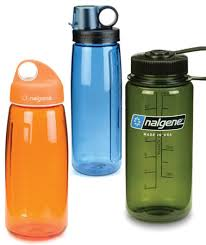bottle: (121, 44, 202, 225), (1, 56, 73, 243), (62, 2, 130, 178)
